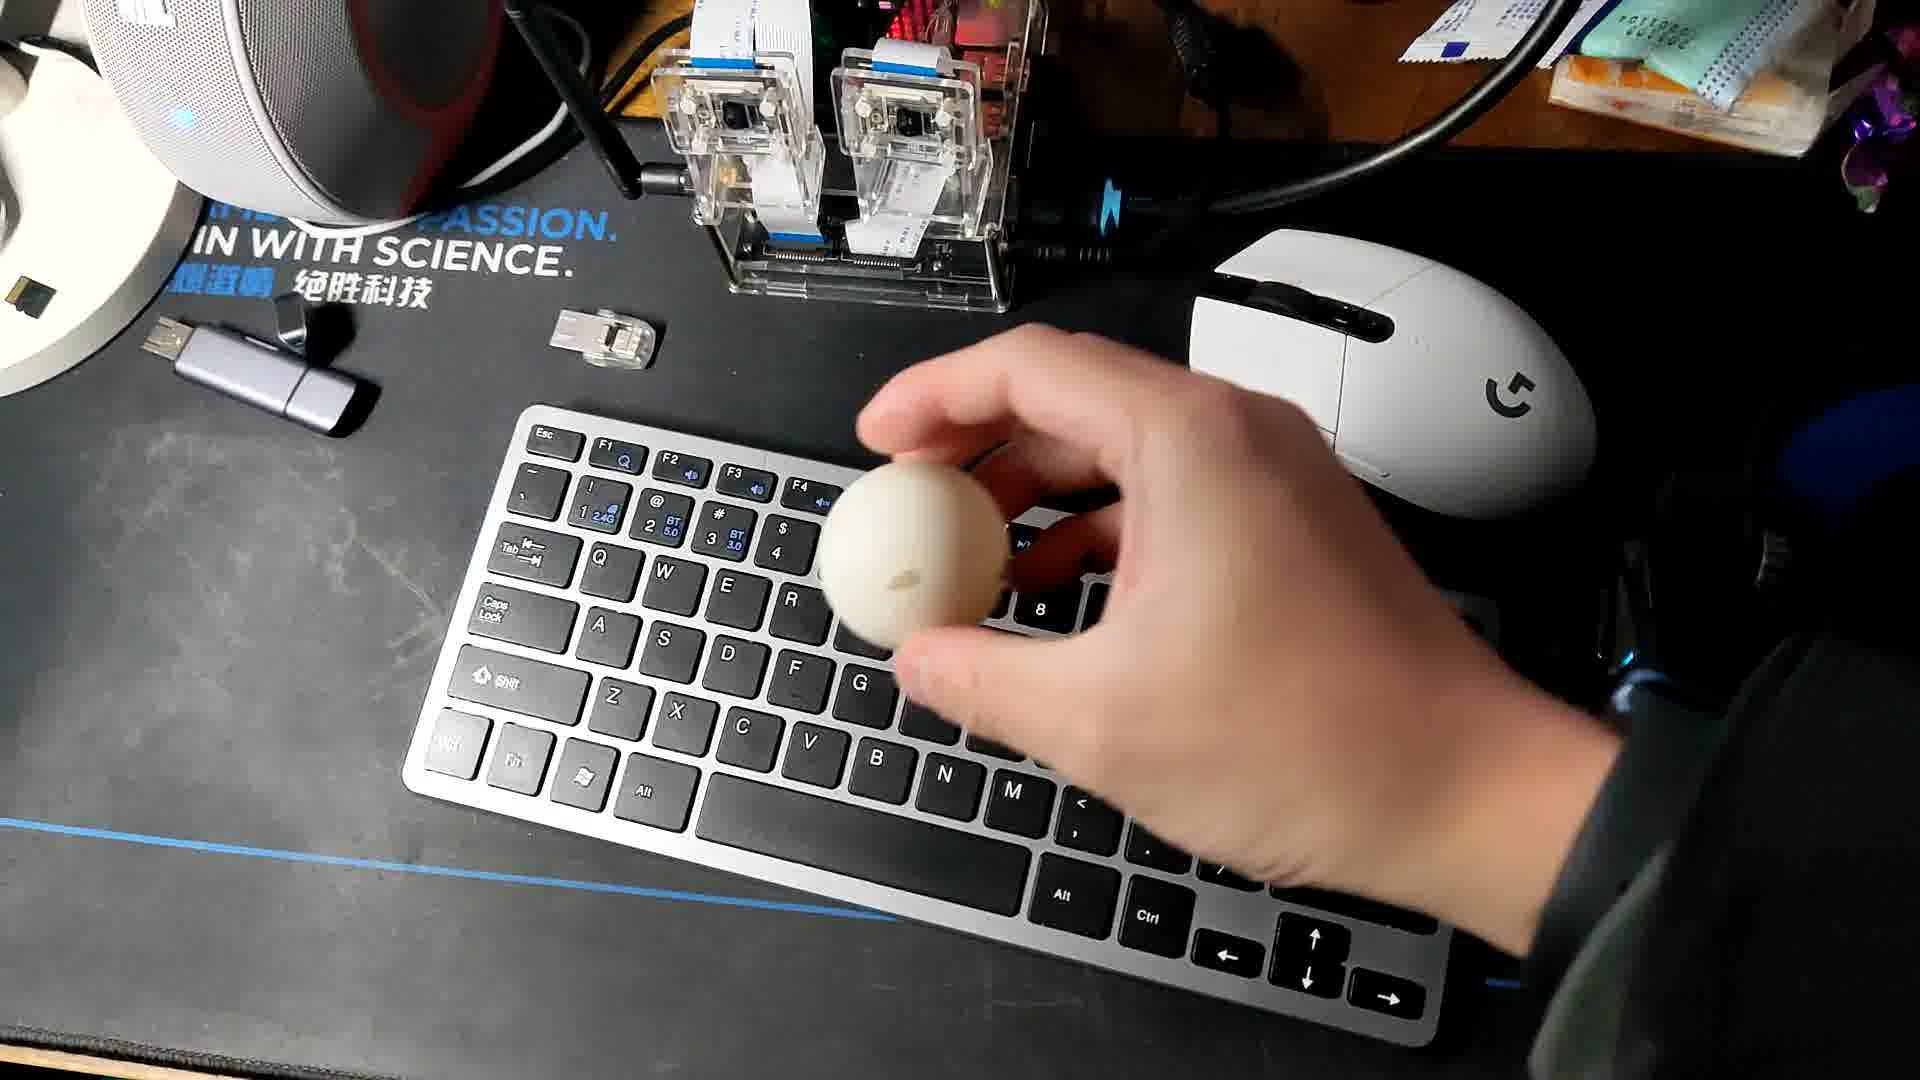Ball: (808, 465, 1009, 650)
